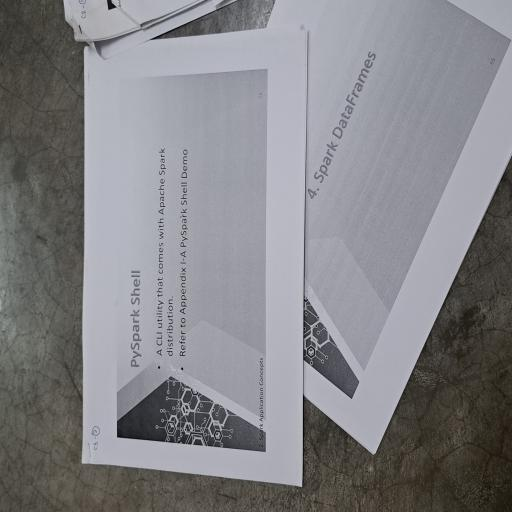paper: (19, 97, 384, 416), (40, 350, 384, 512), (350, 81, 384, 329)
